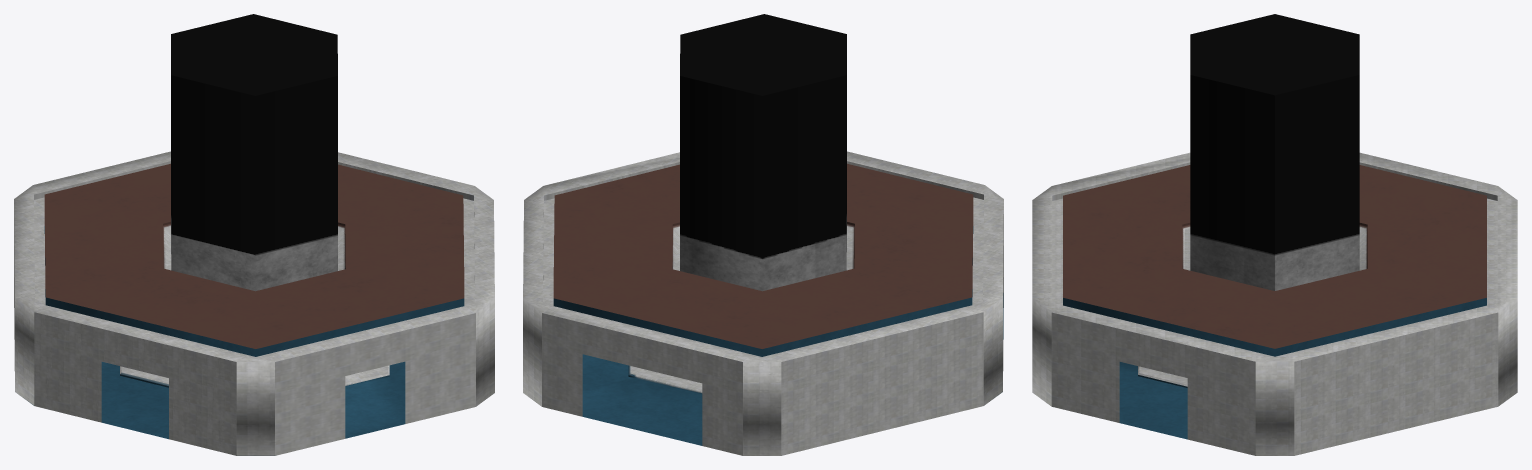
The model's file is lobby_collapsed.fbx.
The picture shows the model from 3 angles, left to right: view 1: azimuth 30°, elevation 25°; view 2: azimuth 150°, elevation 25°; view 3: azimuth 270°, elevation 25°; orthographic projection.
Visible parts, largest first — view 1: bake; view 2: bake; view 3: bake.
Boxes of the visible parts, x1,y1,x2,y2 form: bake: [14, 14, 494, 455]; bake: [523, 14, 1003, 455]; bake: [1032, 14, 1517, 455].
Size of the model in its own units: 983 by 589 by 896.
Materials: 1 (1 with a texture image).
